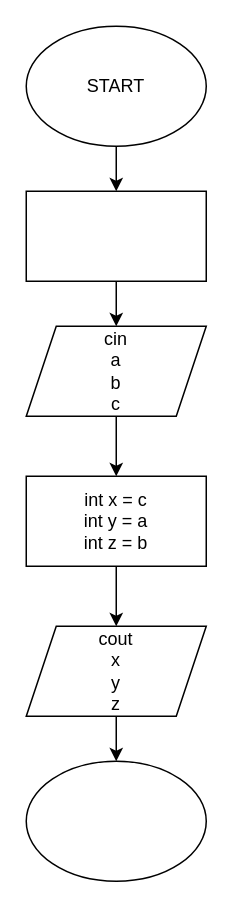
This 233x908 diagram has some shape labels left out. The centre of each missing label's shape, as x and y in pixels:
END: (x=115, y=820)
int a int b int c: (x=115, y=235)
